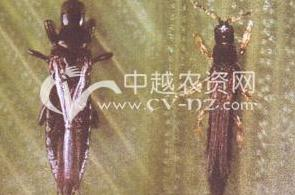Thripidae: (28, 1, 115, 194), (190, 2, 253, 195)
